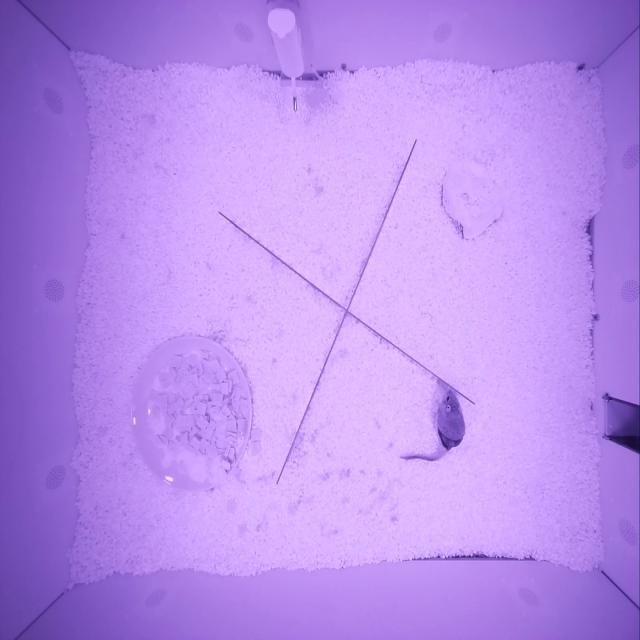adult_back: (434, 391, 465, 450)
